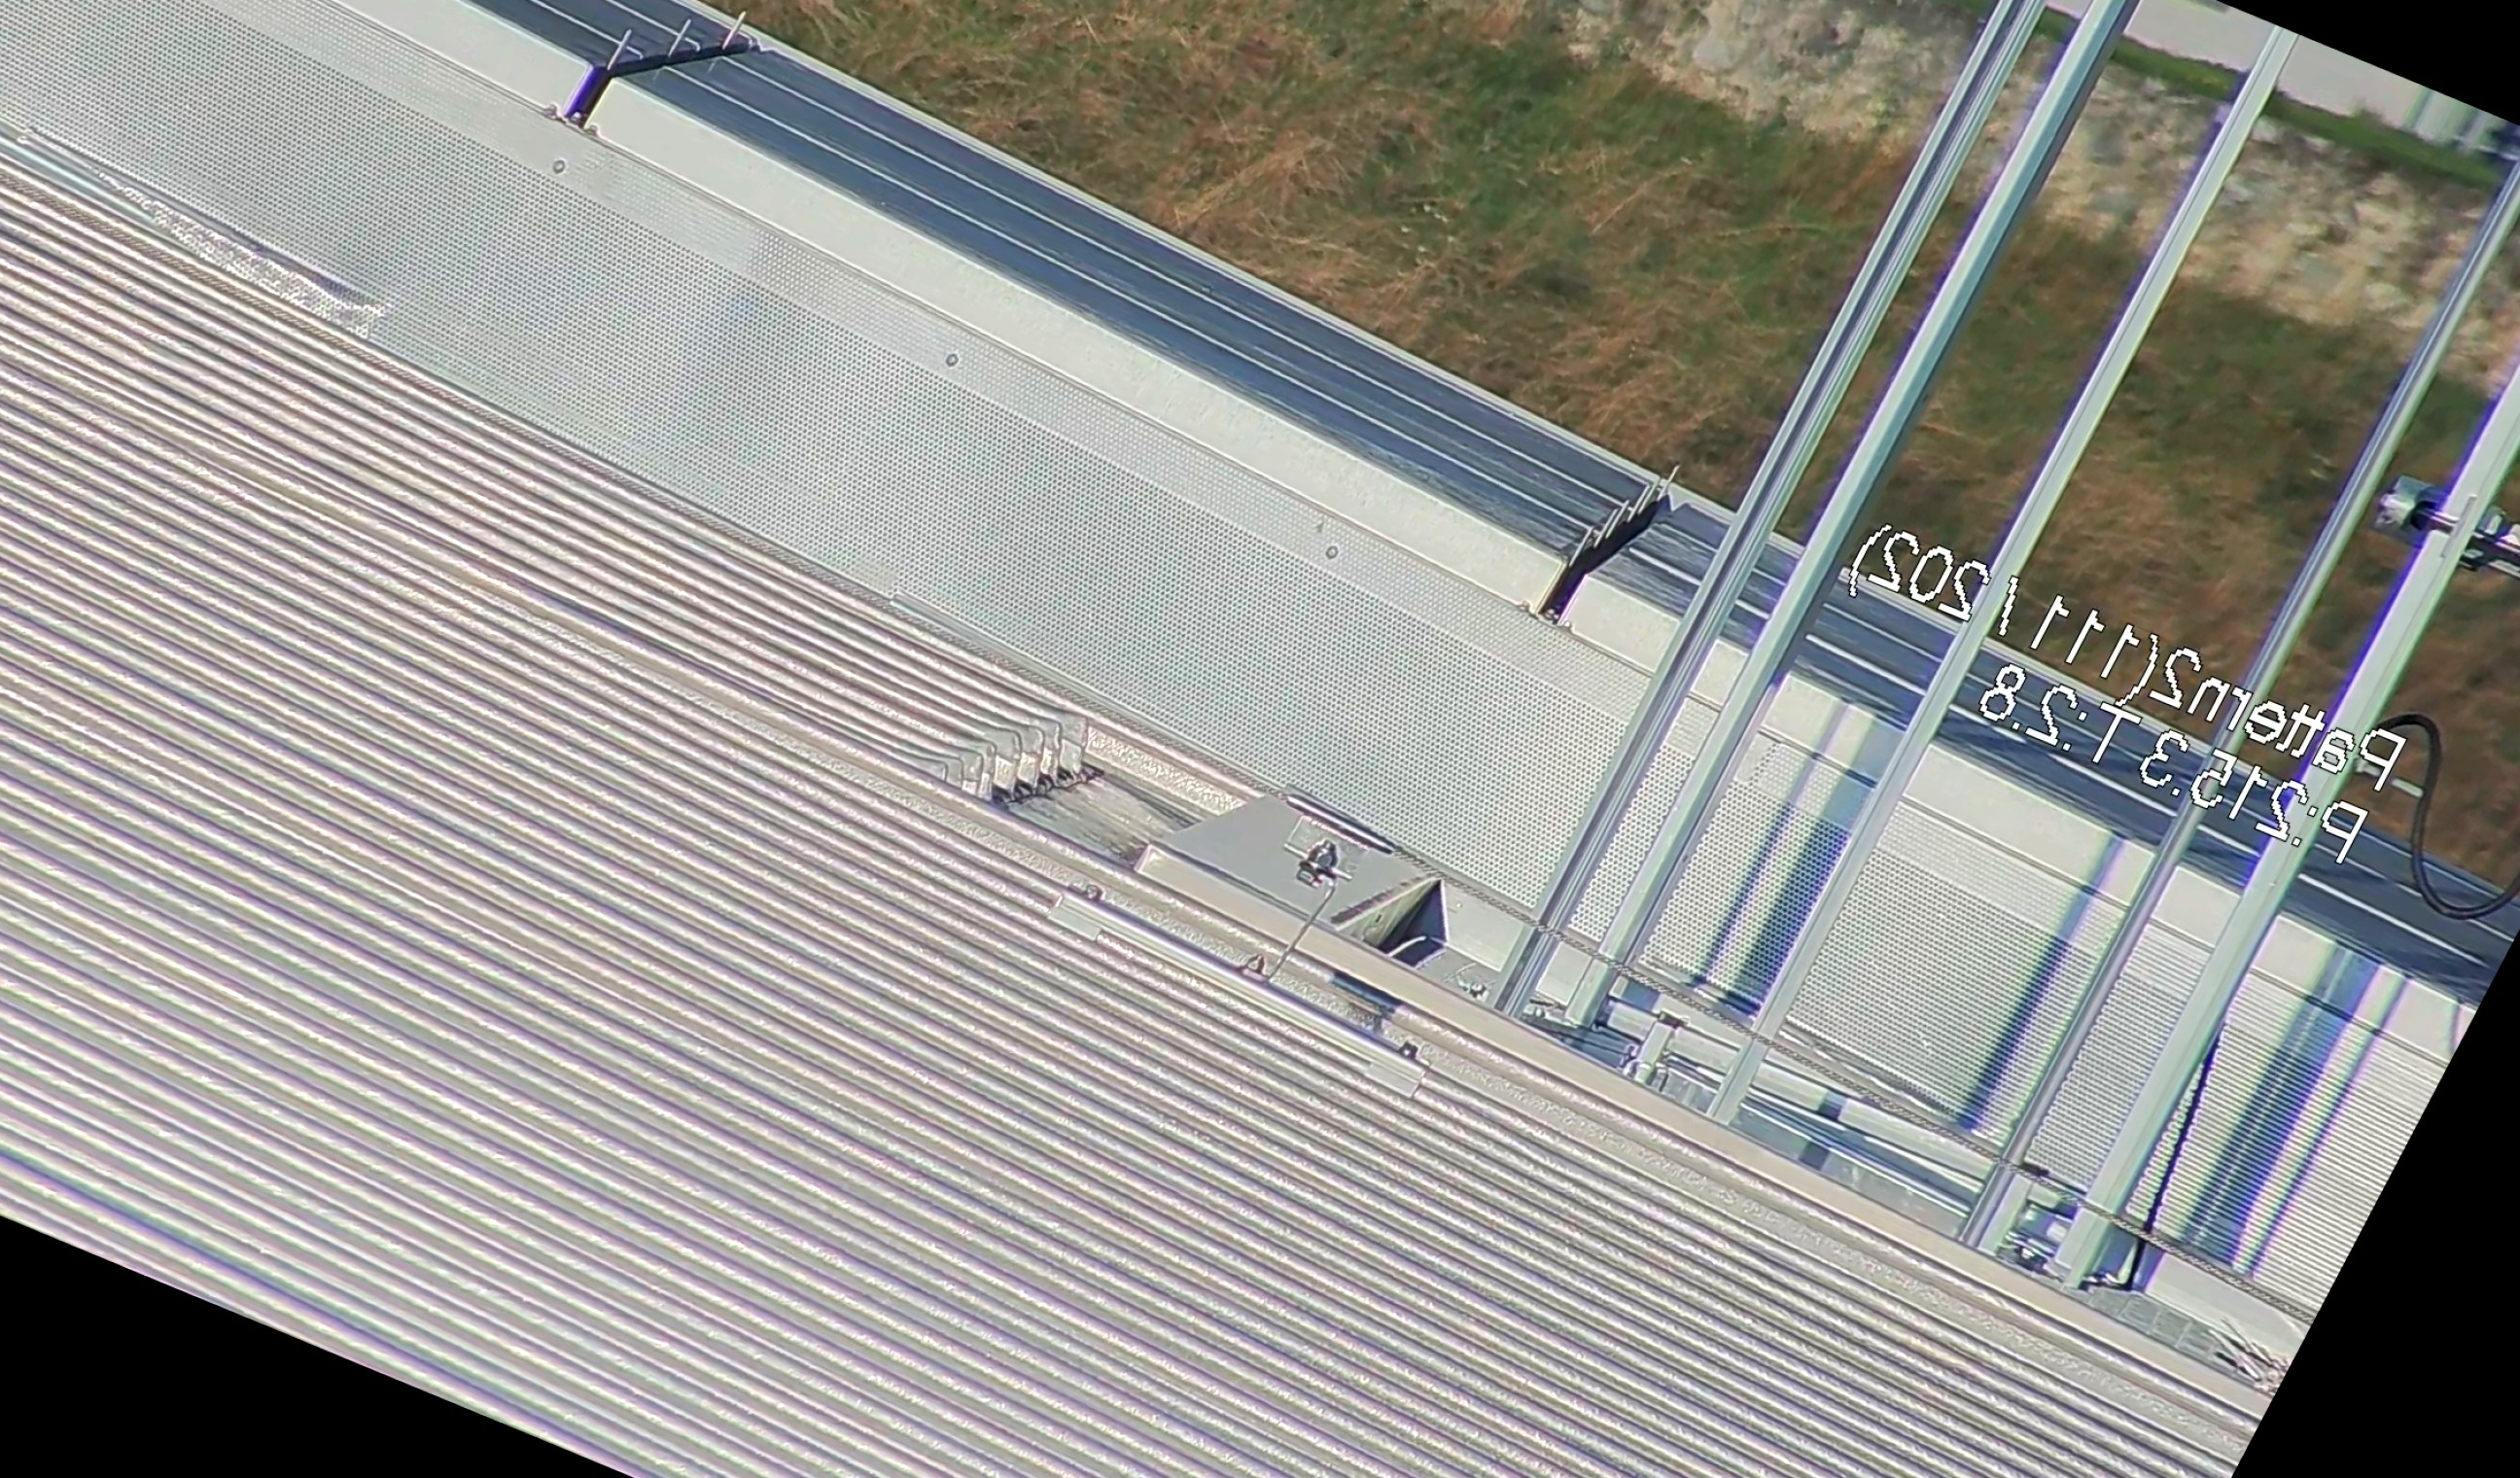Other: (1519, 433, 1711, 648)
